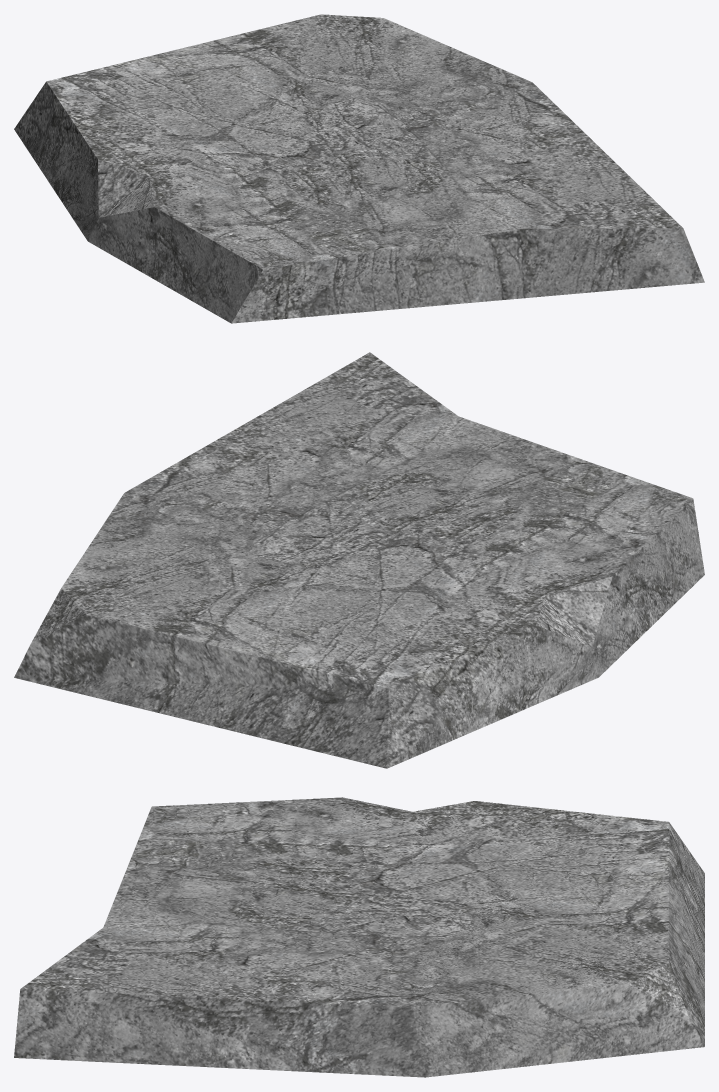
Rendered from materials_3_rubble_16.fbx.
3 views of the same model, one above another, from view 1: azimuth 30°, elevation 25°; view 2: azimuth 150°, elevation 25°; view 3: azimuth 270°, elevation 25° (orthographic). The views are drawn at different scales.
Visible parts, largest first — view 1: materials_3_rubble_16; view 2: materials_3_rubble_16; view 3: materials_3_rubble_16.
Boxes of the visible parts, x1,y1,x2,y2 form: materials_3_rubble_16: [14, 14, 704, 323]; materials_3_rubble_16: [14, 352, 704, 768]; materials_3_rubble_16: [14, 797, 704, 1077].
Bounding box in the file's own units: 98.88 × 11.65 × 123.
